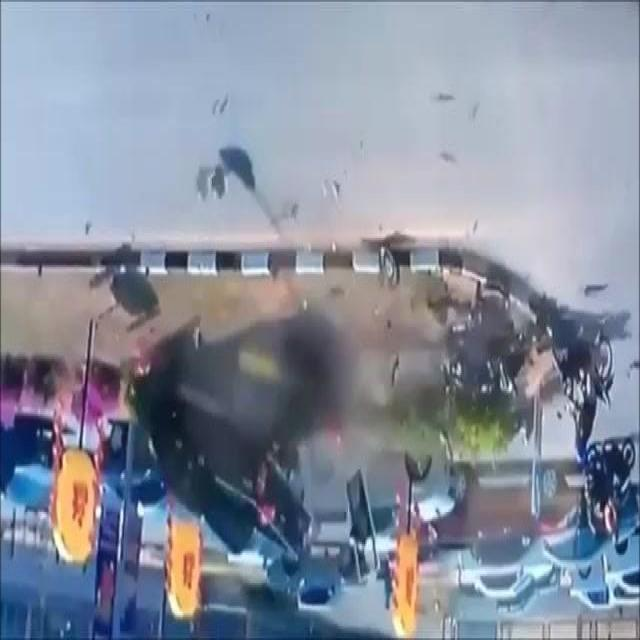severe: (138, 383, 312, 582)
